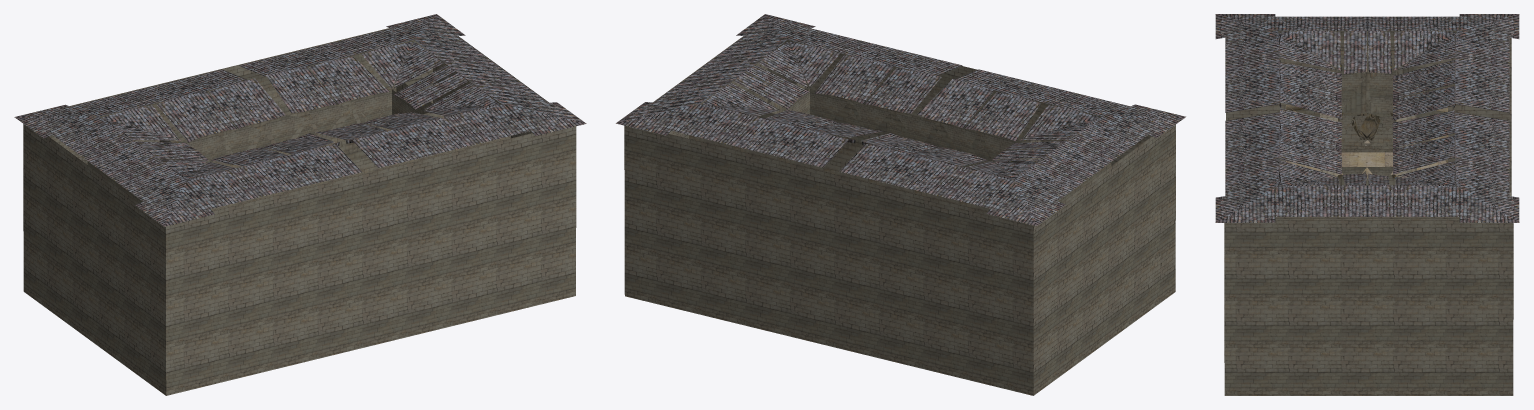
File: sponza_256Tx_low_poly.glb
The picture shows the model from 3 angles, left to right: view 1: azimuth 30°, elevation 25°; view 2: azimuth 150°, elevation 25°; view 3: azimuth 270°, elevation 25°; orthographic projection.
Visible parts, largest first — view 1: Mesh_0; view 2: Mesh_0; view 3: Mesh_0.
Part boxes in pixels (x1,y1,x2,y2): Mesh_0: (14,14,586,395); Mesh_0: (616,14,1185,395); Mesh_0: (1215,14,1519,395).
Bounding box in the file's own units: 29.77 × 12.51 × 18.31.
Materials: 22 (22 with a texture image).
